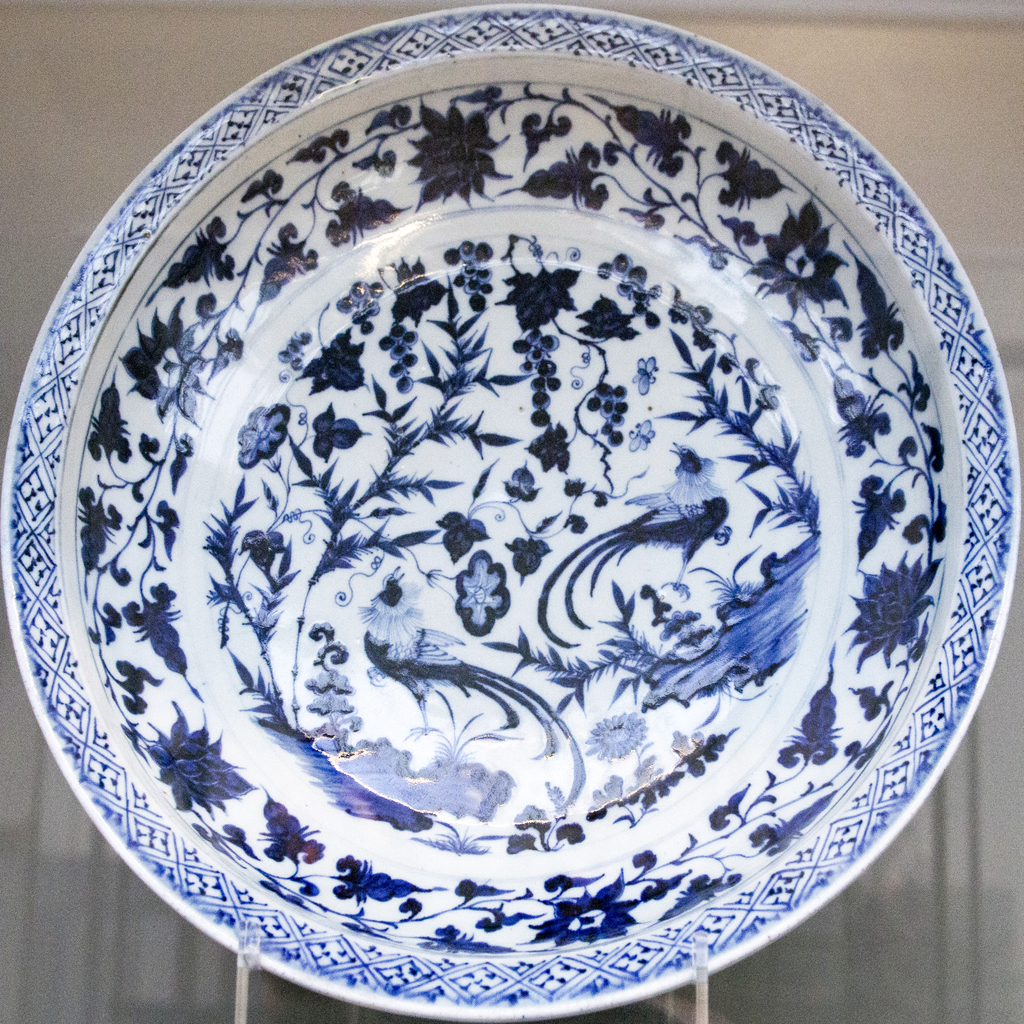plate: (0, 14, 1023, 951)
